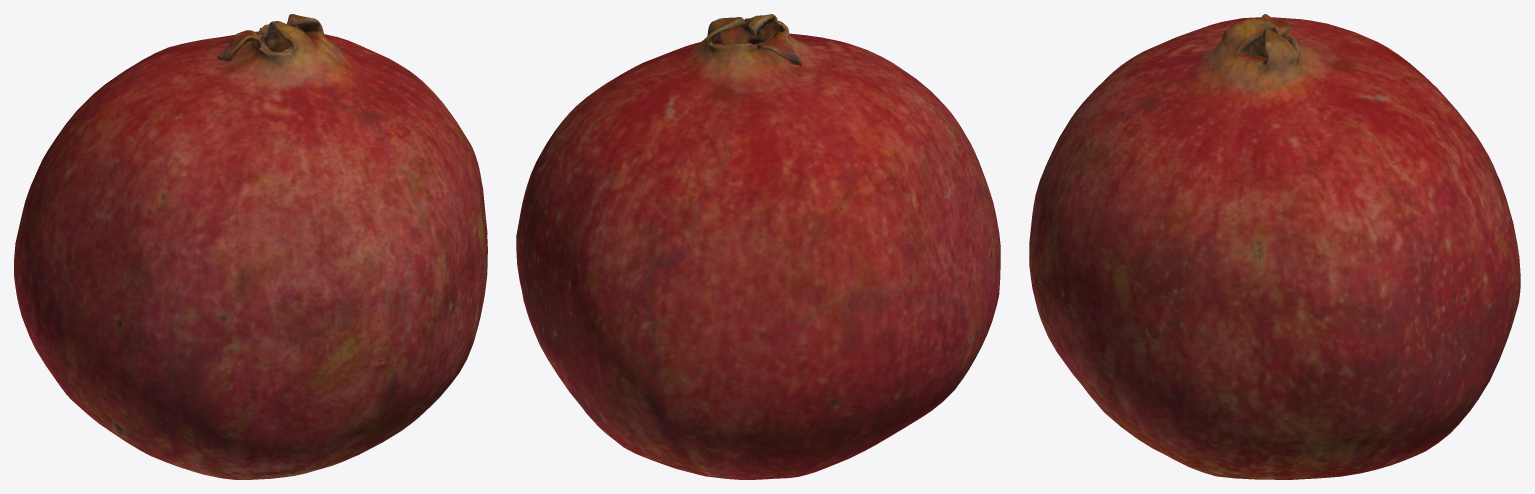
File: food_pomegranate_01.glb
3 renders of one model, left to right at view 1: azimuth 30°, elevation 25°; view 2: azimuth 150°, elevation 25°; view 3: azimuth 270°, elevation 25°, orthographic. The views are drawn at different scales.
Parts seen in each view (by area): view 1: food_pomegranate_01; view 2: food_pomegranate_01; view 3: food_pomegranate_01.
Part boxes in pixels (x1,y1,x2,y2): food_pomegranate_01: [14, 14, 487, 479]; food_pomegranate_01: [516, 14, 1000, 479]; food_pomegranate_01: [1029, 14, 1520, 479].
Bounding box in the file's own units: 0.1143 × 0.115 × 0.1154.
1 material, 1 textured.
